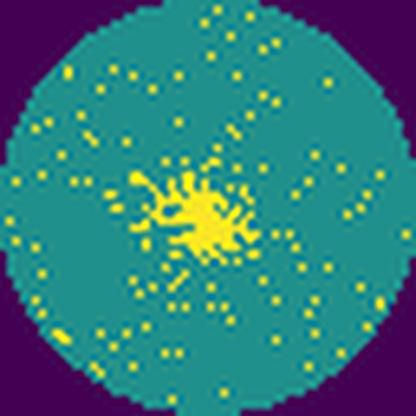Center: (141, 171, 261, 256)
